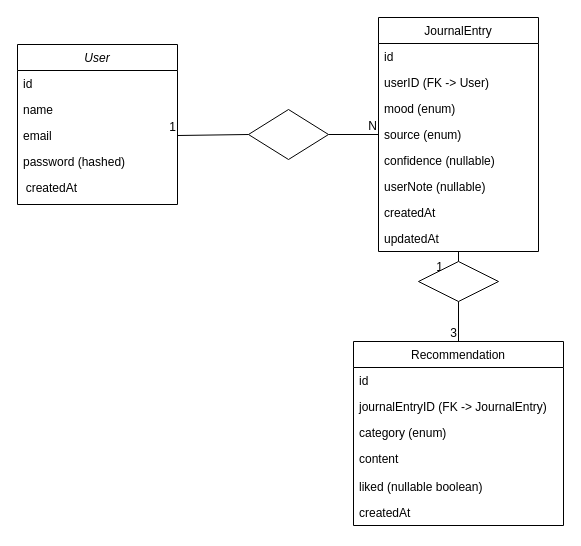
This 581x546 diagram has some shape labels left out. Each missing label, with the centre of its shape:
"generates" goes at pixel 458 281.
"logs" goes at pixel 288 134.
